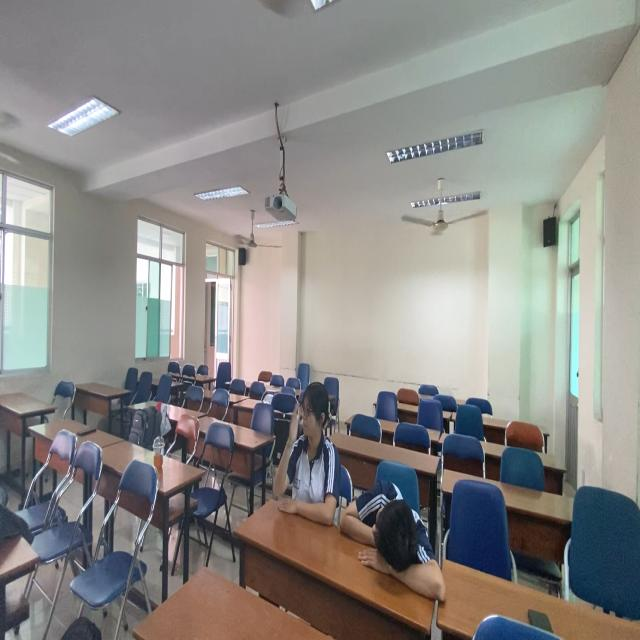raise_hand: (271, 374, 341, 523)
sleep: (339, 484, 452, 614)
